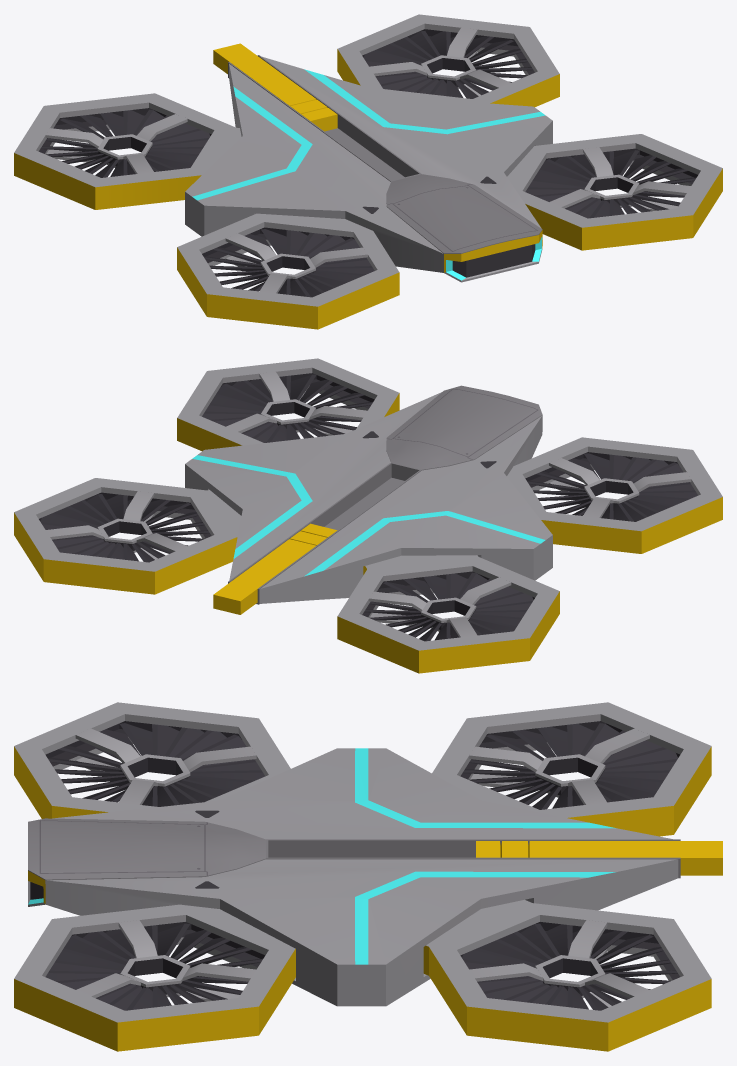
The model's file is SM_Vehicles_04.fbx.
3 renders of one model, top to bottom at view 1: azimuth 30°, elevation 25°; view 2: azimuth 150°, elevation 25°; view 3: azimuth 270°, elevation 25°, orthographic. The views are drawn at different scales.
Visible parts, largest first — view 1: SM_Vehicles_04, SM_Vehicles_04_RR, SM_Vehicles_04_FL, SM_Vehicles_04_FR, SM_Vehicles_04_RL; view 2: SM_Vehicles_04, SM_Vehicles_04_RR, SM_Vehicles_04_FR, SM_Vehicles_04_FL, SM_Vehicles_04_RL; view 3: SM_Vehicles_04, SM_Vehicles_04_RR, SM_Vehicles_04_FL, SM_Vehicles_04_FR, SM_Vehicles_04_RL.
Part boxes in pixels (x1=…): SM_Vehicles_04: x1=14, y1=14, x2=722, y2=329; SM_Vehicles_04_RR: x1=40, y1=109, x2=210, y2=177; SM_Vehicles_04_FL: x1=525, y1=150, x2=696, y2=218; SM_Vehicles_04_FR: x1=204, y1=229, x2=374, y2=297; SM_Vehicles_04_RL: x1=363, y1=31, x2=533, y2=98; SM_Vehicles_04: x1=14, y1=358, x2=722, y2=673; SM_Vehicles_04_RR: x1=364, y1=572, x2=533, y2=641; SM_Vehicles_04_FR: x1=527, y1=453, x2=697, y2=521; SM_Vehicles_04_FL: x1=202, y1=374, x2=372, y2=442; SM_Vehicles_04_RL: x1=40, y1=494, x2=209, y2=562; SM_Vehicles_04: x1=14, y1=702, x2=722, y2=1051; SM_Vehicles_04_RR: x1=462, y1=723, x2=677, y2=809; SM_Vehicles_04_FL: x1=45, y1=923, x2=262, y2=1010; SM_Vehicles_04_FR: x1=47, y1=723, x2=265, y2=806; SM_Vehicles_04_RL: x1=462, y1=923, x2=677, y2=1010.
Bounding box in the file's own units: 0.8659 × 0.069 × 0.8101.
